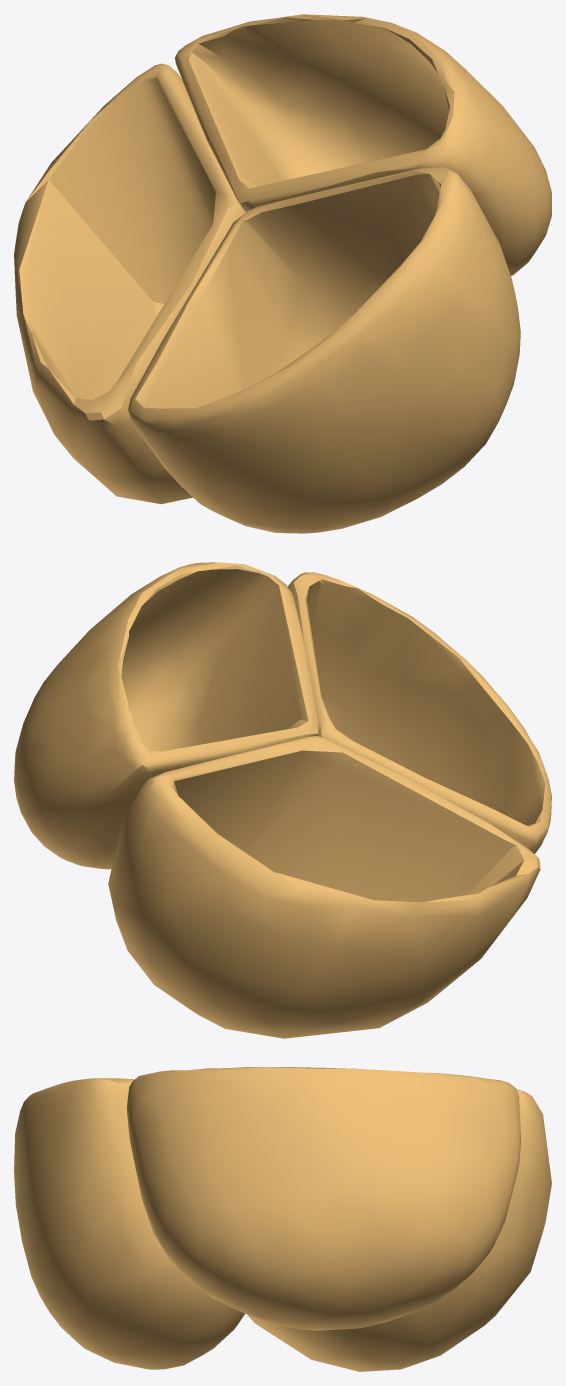
The model's file is valva-aortica.glb.
3 views of the same model, one above another, from view 1: azimuth 30°, elevation 25°; view 2: azimuth 150°, elevation 25°; view 3: azimuth 270°, elevation 25° (orthographic). The views are drawn at different scales.
Visible parts, largest first — view 1: valva-aortica; view 2: valva-aortica; view 3: valva-aortica.
Boxes of the visible parts, x1=… form: valva-aortica: x1=14, y1=14, x2=551, y2=533; valva-aortica: x1=14, y1=562, x2=551, y2=1038; valva-aortica: x1=14, y1=1067, x2=551, y2=1371.
Size of the model in its own units: 0.0267 by 0.0217 by 0.0276.
